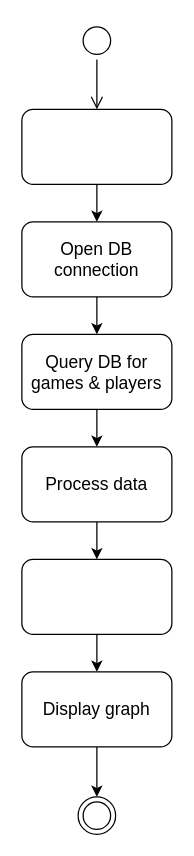
Some shapes in this 194 by 856 pixel diagram are drawn without their labels. The centre of each missing label's shape, as x and y in pixels:
"Create graph" goes at point 96,596.
"Statistics Button Pressed" goes at point 96,146.
